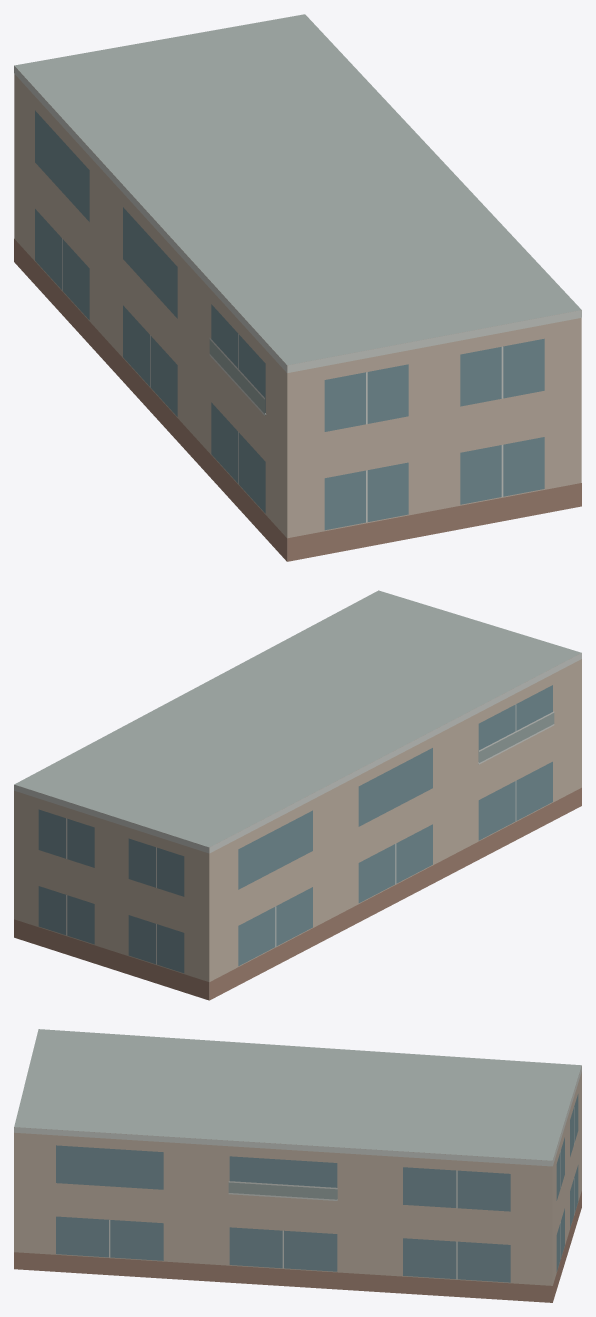
Rendered from survey-upis-32987330.glb.
The picture shows the model from 3 angles, top to bottom: view 1: azimuth 30°, elevation 25°; view 2: azimuth 150°, elevation 25°; view 3: azimuth 270°, elevation 25°; orthographic projection. The views are drawn at different scales.
Visible parts, largest first — view 1: survey-upis-32987330.tmp; view 2: survey-upis-32987330.tmp; view 3: survey-upis-32987330.tmp.
Part boxes in pixels (x1,y1,x2,y2): survey-upis-32987330.tmp: (14,14,581,561); survey-upis-32987330.tmp: (14,590,581,1000); survey-upis-32987330.tmp: (14,1029,581,1302).
Bounding box in the file's own units: 12.14 × 6.1 × 22.1.
